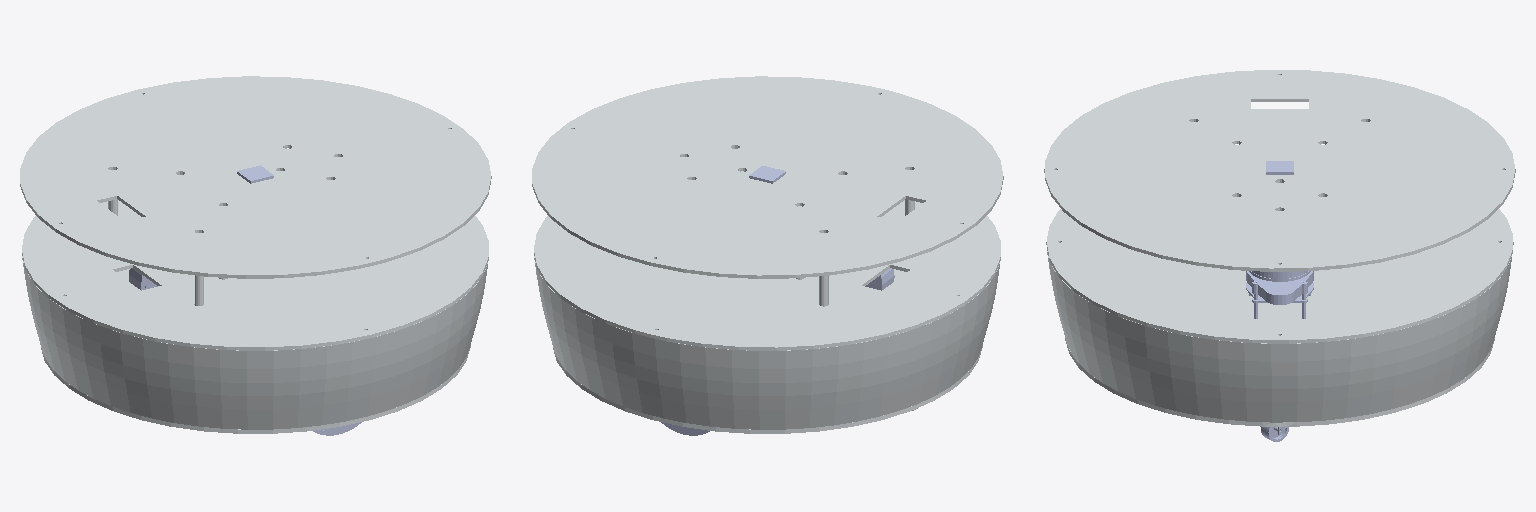
URDF robot description (retailbot_description):
<robot
  name="retailbot_description">

  <link name="dummy">
   </link>
  <link
    name="base_link">
    <inertial>
      <origin
        xyz="0.00047861 -8.1185E-16 0.055391"
        rpy="0 0 0" />
      <mass
        value="4.8031" />
      <inertia
        ixx="0.010896"
        ixy="-1.8033E-18"
        ixz="-0.00012767"
        iyy="0.011096"
        iyz="-5.4092E-20"
        izz="0.0003662" />
    
    </inertial>
    <visual>
      <origin
        xyz="0 0 0"
        rpy="0 0 0" />
      <geometry>
        <mesh
          filename="package://retailbot_description/meshes/base_link.STL" />
      </geometry>
      <material
        name="">
        <color
          rgba="0.89804 0.91765 0.92941 1" />
      </material>
    </visual>
    <collision>
      <origin
        xyz="0 0 0.0545"
        rpy="0 0 0" />
      <geometry>
        <cylinder length="0.109" radius="0.25"/>
      </geometry>
    </collision>
  </link>

  <joint name="dummy_joint" type="fixed">
     <parent link="dummy"/>
     <child link="base_link"/>
   </joint>

  <link
    name="right_wheel">
    <inertial>
      <origin
        xyz="-5.55111512312578E-17 1.11022302462516E-16 -0.013"
        rpy="0 0 0" />
      <mass
        value="0.1" />
      <inertia
        ixx="5.1458e-5" iyy="5.1458e-5" izz="6.125e-5"
        ixy="0" ixz="0" iyz="0"/>
    </inertial>
    <visual>
      <origin
        xyz="0 0 0"
        rpy="0 0 0" />
      <geometry>
        <mesh
          filename="package://retailbot_description/meshes/right_wheel.STL" />
      </geometry>
      <material
        name="">
        <color
          rgba="0.792156862745098 0.819607843137255 0.933333333333333 1" />
      </material>
    </visual>
    <collision>
      <origin
        xyz="0 0 -0.013"
        rpy="0 0 0" />
      <geometry>
       <cylinder length="0.026" radius="0.052"/>
      </geometry>
    </collision>
  </link>
  <joint
    name="right_wheel_joint"
    type="continuous">
    <origin
      xyz="-0.00011132 -0.1493 0.017424"
      rpy="-1.5708 -0.62853 -1.1215E-29" />
    <parent
      link="base_link" />
    <child
      link="right_wheel" />
    <axis
      xyz="0 0 -1" />
  </joint>
  <link
    name="left_wheel">
    <inertial>
      <origin
        xyz="0 -5.55111512312578E-17 0.013"
        rpy="0 0 0" />
      <mass
        value="0.1" />
      <inertia
        ixx="5.1458e-5" iyy="5.1458e-5" izz="6.125e-5"
		ixy="0" ixz="0" iyz="0" />
    </inertial>
    <visual>
      <origin
        xyz="0 0 0"
        rpy="0 0 0" />
      <geometry>
        <mesh
          filename="package://retailbot_description/meshes/left_wheel.STL" />
      </geometry>
      <material
        name="">
        <color
          rgba="0.792156862745098 0.819607843137255 0.933333333333333 1" />
      </material>
    </visual>
    <collision>
      <origin
        xyz="0 0 0.013"
        rpy="0 0 0" />
      <geometry>
        
        <cylinder length="0.026" radius="0.052"/>
      </geometry>
    </collision>
  </link>
  <joint
    name="left_wheel_joint"
    type="continuous">
    <origin
      xyz="0.00011132 0.1493 0.017424"
      rpy="1.5708 -0.72349 3.1416" />
    <parent
      link="base_link" />
    <child
      link="left_wheel" />
    <axis
      xyz="0 0 -1" />
  </joint>
  <link
    name="free1">
    <inertial>
      <origin
        xyz="-0.000454392731273207 7.23966299104317E-07 0.0171929622748198"
        rpy="0 0 0" />
      <mass
        value="0.1" />
      <inertia
        ixx="0.00083" iyy="0.00083" izz="0.000167"
        ixy="0" ixz="0" iyz="0" />
    </inertial>
    <visual>
      <origin
        xyz="0 0 0"
        rpy="0 0 0" />
      <geometry>
        <mesh
          filename="package://retailbot_description/meshes/free1.STL" />
      </geometry>
      <material
        name="">
        <color
          rgba="0.792156862745098 0.819607843137255 0.933333333333333 1" />
      </material>
    </visual>
    <collision>
      <origin
        xyz="0 0 0.02241"
        rpy="0 0 0" />
      <geometry>
        <cylinder length="0.00518" radius="0.01"/>
      </geometry>
    </collision>
  </link>
  <joint
    name="free1_joint"
    type="continuous">
    <origin
      xyz="-0.1785 0 -0.025"
      rpy="0 0 -2.7786" />
    <parent
      link="base_link" />
    <child
      link="free1" />
    <axis
      xyz="0 0 1" />
  </joint>
  <link
    name="caster1">
    <inertial>
      <origin
        xyz="5.55111512312578E-17 0 -6.22577482985581E-05"
        rpy="0 0 0" />
      <mass
        value="0.1" />
      <inertia
        ixx="5.1458e-5" iyy="5.1458e-5" izz="6.125e-5"
        ixy="0" ixz="0" iyz="0"/>
    </inertial>
    <visual>
      <origin
        xyz="0 0 0"
        rpy="0 0 0" />
      <geometry>
        <mesh
          filename="package://retailbot_description/meshes/caster1.STL" />
      </geometry>
      <material
        name="">
        <color
          rgba="0.792156862745098 0.819607843137255 0.933333333333333 1" />
      </material>
    </visual>
    <collision>
      <origin
        xyz="0 0 0"
        rpy="0 0 0" />
      <geometry>
         <cylinder length="0.013" radius="0.014"/>

      </geometry>
    </collision>
  </link>
  <joint
    name="caster1_joint"
    type="continuous">
    <origin
      xyz="-0.00650000000000006 0 0.00442000000000015"
      rpy="-1.5707963267949 0.304078142895362 -3.14159265358979" />
    <parent
      link="free1" />
    <child
      link="caster1" />
    <axis
      xyz="0 0 -1" />
  </joint>
  <link
    name="free">
    <inertial>
      <origin
        xyz="-0.000451943330557113 8.4985915793645E-07 0.0171930731169243"
        rpy="0 0 0" />
      <mass
        value="0.1" />
      <inertia
        ixx="0.00083" iyy="0.00083" izz="0.000167"
        ixy="0" ixz="0" iyz="0" />
    </inertial>
    <visual>
      <origin
        xyz="0 0 0"
        rpy="0 0 0" />
      <geometry>
        <mesh
          filename="package://retailbot_description/meshes/free.STL" />
      </geometry>
      <material
        name="">
        <color
          rgba="0.792156862745098 0.819607843137255 0.933333333333333 1" />
      </material>
    </visual>
    <collision>
      <origin
        xyz="0 0 0.02241"
        rpy="0 0 0" />
      <geometry>
        <cylinder length="0.00518" radius="0.01"/>
      </geometry>
    </collision>
  </link>
  <joint
    name="free_joint"
    type="continuous">
    <origin
      xyz="0.1785 0 -0.025"
      rpy="0 0 2.2359" />
    <parent
      link="base_link" />
    <child
      link="free" />
    <axis
      xyz="0 0 1" />
  </joint>
  <link
    name="caster">
    <inertial>
      <origin
        xyz="-2.77555756156289E-17 5.55111512312578E-17 -6.22577482985859E-05"
        rpy="0 0 0" />
      <mass
        value="0.1" />
      <inertia
        ixx="5.1458e-5" iyy="5.1458e-5" izz="6.125e-5"
        ixy="0" ixz="0" iyz="0"/>
    </inertial>
    <visual>
      <origin
        xyz="0 0 0"
        rpy="0 0 0" />
      <geometry>
        <mesh
          filename="package://retailbot_description/meshes/caster.STL" />
      </geometry>
      <material
        name="">
        <color
          rgba="0.792156862745098 0.819607843137255 0.933333333333333 1" />
      </material>
    </visual>
    <collision>
      <origin
        xyz="0 0 0"
        rpy="0 0 0" />
      <geometry>
        <cylinder length="0.013" radius="0.014"/>
      </geometry>
    </collision>
  </link>
  <joint
    name="caster_joint"
    type="continuous">
    <origin
      xyz="-0.0065 0 0.00442"
      rpy="-1.5708 -0.44625 -7.9999E-16" />
    <parent
      link="free" />
    <child
      link="caster" />
    <axis
      xyz="0 0 1" />
  </joint>


<transmission name="left_wheel_transmission">
  <type>transmission_interface/SimpleTransmission</type>
  <joint name="left_wheel_joint">
    <hardwareInterface>hardware_interface/VelocityJointInterface</hardwareInterface>  
  </joint>
  <actuator name="left_wheel_actuator">
    <mechanicalReduction>1</mechanicalReduction>
    <hardwareInterface>VelocityJointInterface</hardwareInterface>
  </actuator>
</transmission>


<transmission name="right_wheel_transmission">
  <type>transmission_interface/SimpleTransmission</type>
  <joint name="right_wheel_joint">
    <hardwareInterface>hardware_interface/VelocityJointInterface</hardwareInterface>  
  </joint>
  <actuator name="right_wheel_actuator">
    <mechanicalReduction>1</mechanicalReduction>
    <hardwareInterface>VelocityJointInterface</hardwareInterface>
  </actuator>
</transmission>


  <link
    name="imu">
    <inertial>
      <origin
        xyz="0 1.38777878078145E-17 0.00150000000000006"
        rpy="0 0 0" />
      <mass
        value="0.00248775299938452" />
      <inertia
        ixx="0"
        ixy="0"
        ixz="0"
        iyy="0"
        iyz="0"
        izz="0" />
    </inertial>
    <visual>
      <origin
        xyz="0 0 0"
        rpy="0 0 0" />
      <geometry>
        <mesh
          filename="package://retailbot_description/meshes/imu.STL" />
      </geometry>
      <material
        name="">
        <color
          rgba="0.792156862745098 0.819607843137255 0.933333333333333 1" />
      </material>
    </visual>
    <collision>
      <origin
        xyz="0 0 0"
        rpy="0 0 0" />
      <geometry>
        <mesh
          filename="package://retailbot_description/meshes/imu.STL" />
      </geometry>
    </collision>
  </link>
  <joint
    name="imu_joint"
    type="fixed">
    <origin
      xyz="0 0 0.193"
      rpy="0 0 1.5708" />
    <parent
      link="base_link" />
    <child
      link="imu" />
    <axis
      xyz="0 0 0" />
  </joint>
  <link
    name="laser">
    <inertial>
      <origin
        xyz="0.00781357707654733 -9.06526008550047E-05 0.00659313417291452"
        rpy="0 0 0" />
      <mass
        value="0.0835552065247727" />
      <inertia
        ixx="4.286212790213E-06"
        ixy="-6.03360746189324E-08"
        ixz="1.94532155948423E-06"
        iyy="5.16583781965134E-06"
        iyz="1.32813368971549E-07"
        izz="8.87863705765745E-07" />
    </inertial>
    <visual>
      <origin
        xyz="0 0 0"
        rpy="0 0 0" />
      <geometry>
        <mesh
          filename="package://retailbot_description/meshes/laser.STL" />
      </geometry>
      <material
        name="">
        <color
          rgba="0.792156862745098 0.819607843137255 0.933333333333333 1" />
      </material>
    </visual>
    <collision>
      <origin
        xyz="0.015 0 0"
        rpy="0 0 0" />
      <geometry>
        <box size="0.11 0.07128 0.05839"/>
      </geometry>
    </collision>
  </link>
  <joint
    name="laser_joint"
    type="fixed">
    <origin
      xyz="0.1555 0 0.139"
      rpy="0 0 0" />
    <parent
      link="base_link" />
    <child
      link="laser" />
    <axis
      xyz="0 0 0" />
  </joint>
  <link
    name="stage1">
    <inertial>
      <origin
        xyz="3.46944695195361E-17 -0.00104121312705759 0.00242617407859658"
        rpy="0 0 0" />
      <mass
        value="2.06050296365951" />
      <inertia
        ixx="0.000245413112888303"
        ixy="-2.8740506719259E-19"
        ixz="5.80293458236042E-19"
        iyy="0.000121184452565688"
        iyz="-2.50629797364438E-05"
        izz="0.000293582872490798" />
    </inertial>
    <visual>
      <origin
        xyz="0 0 0"
        rpy="0 0 0" />
      <geometry>
        <mesh
          filename="package://retailbot_description/meshes/stage1.STL" />
      </geometry>
      <material
        name="">
        <color
          rgba="0.898039215686275 0.917647058823529 0.929411764705882 1" />
      </material>
    </visual>
    <collision>
      <origin
        xyz="0 0 0"
        rpy="0 0 0" />
      <geometry>
        <cylinder length="0.004" radius="0.2466"/>
      </geometry>
    </collision>
  </link>
  <joint
    name="stage1_joint"
    type="fixed">
    <origin
      xyz="0 0 0.193"
      rpy="3.1416 1.1102E-14 -1.5708" />
    <parent
      link="base_link" />
    <child
      link="stage1" />
    <axis
      xyz="0 0 0" />
  </joint>



<gazebo reference="base_link">
	<kp>1000000.0</kp>
	<kd>1000000.0</kd>
	<mu1>10.0</mu1>
	<mu2>10.0</mu2>
    <turnGravityOff>false</turnGravityOff>
  </gazebo>




<gazebo>
    <plugin name="gazebo_ros_control" filename="libgazebo_ros_control.so">
      <robotNamespace>/</robotNamespace>
    </plugin>
  </gazebo>



</robot>

--- Facts derived from the render (not from the file) ---
Views: 3 orthographic renders of the robot side by side, from view 1: azimuth 30°, elevation 25°; view 2: azimuth 150°, elevation 25°; view 3: azimuth 270°, elevation 25°.
Robot: retailbot_description — 11 links, 10 joints (6 continuous, 4 fixed); root link dummy; default pose: all joints at 0.
Visible links, largest first — view 1: stage1, base_link; view 2: stage1, base_link; view 3: stage1, base_link, laser.
Boxes of the visible links, x1,y1,x2,y2 form: stage1: [20, 76, 491, 305]; base_link: [22, 200, 488, 433]; stage1: [532, 76, 1003, 306]; base_link: [534, 180, 1000, 433]; stage1: [1044, 70, 1515, 271]; base_link: [1046, 209, 1513, 426]; laser: [1246, 271, 1313, 318].
Bounding box of the posed robot: 0.4928 × 0.4932 × 0.2306 m (x, y, z).
10 mesh visuals loaded from 10 distinct referenced files (10 binary STL).